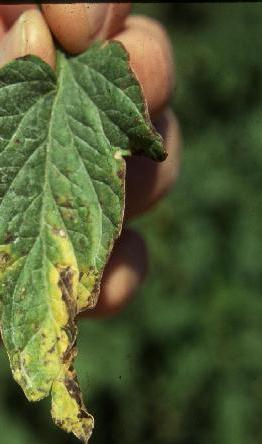Tomato leaf bacterial spot: (0, 27, 169, 444)
